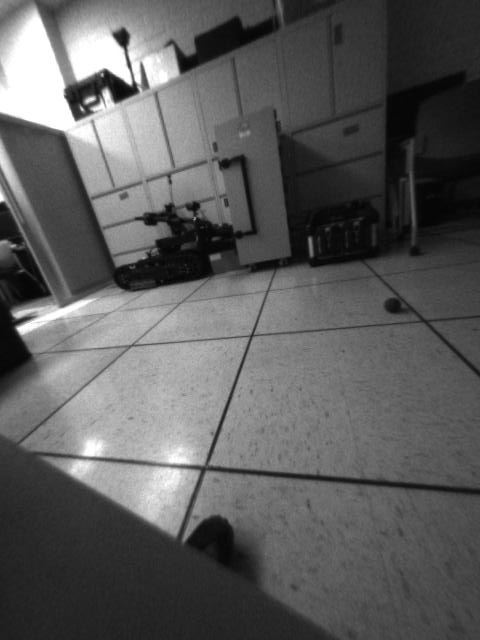dogtoy: (380, 290, 411, 321)
